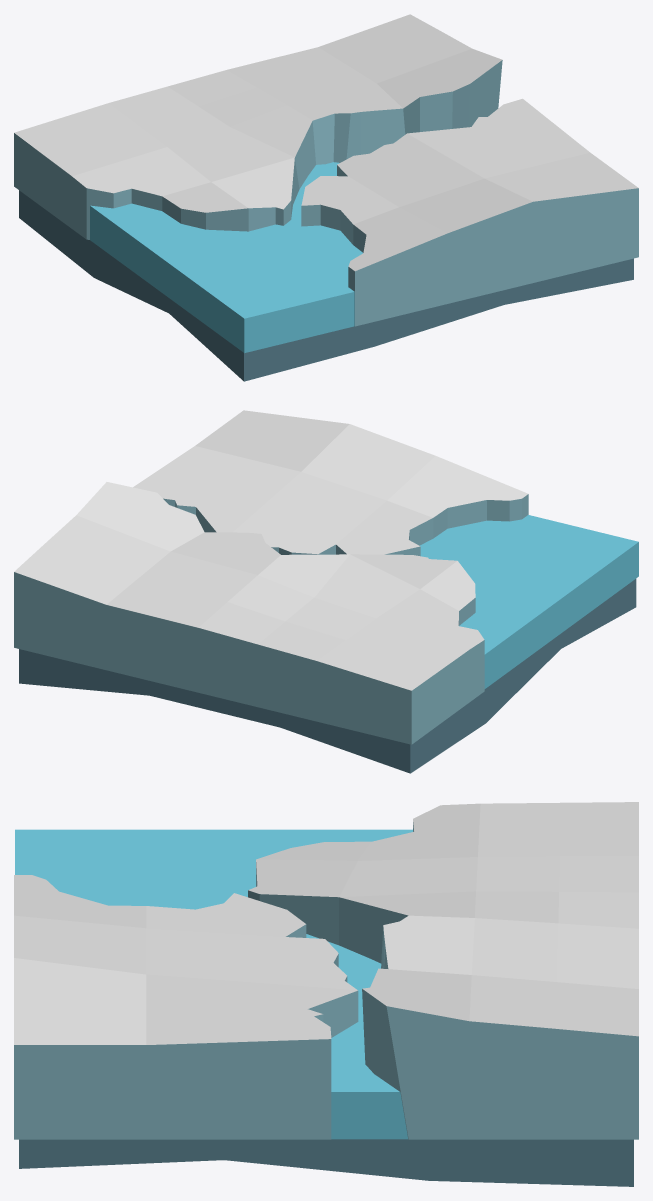
File: world-ice.fbx
The picture shows the model from 3 angles, top to bottom: view 1: azimuth 30°, elevation 25°; view 2: azimuth 150°, elevation 25°; view 3: azimuth 270°, elevation 25°; orthographic projection. The views are drawn at different scales.
Parts seen in each view (by area): view 1: nature_artic_terrain, nature_artic_terrain_water; view 2: nature_artic_terrain, nature_artic_terrain_water; view 3: nature_artic_terrain, nature_artic_terrain_water.
Boxes of the visible parts, x1,y1,x2,y2 form: nature_artic_terrain: (14,14,638,381); nature_artic_terrain_water: (90,162,362,352); nature_artic_terrain: (14,410,636,773); nature_artic_terrain_water: (420,515,638,688); nature_artic_terrain: (14,802,638,1186); nature_artic_terrain_water: (15,829,412,1139).
Size of the model in its own units: 2000 by 646 by 2000.
